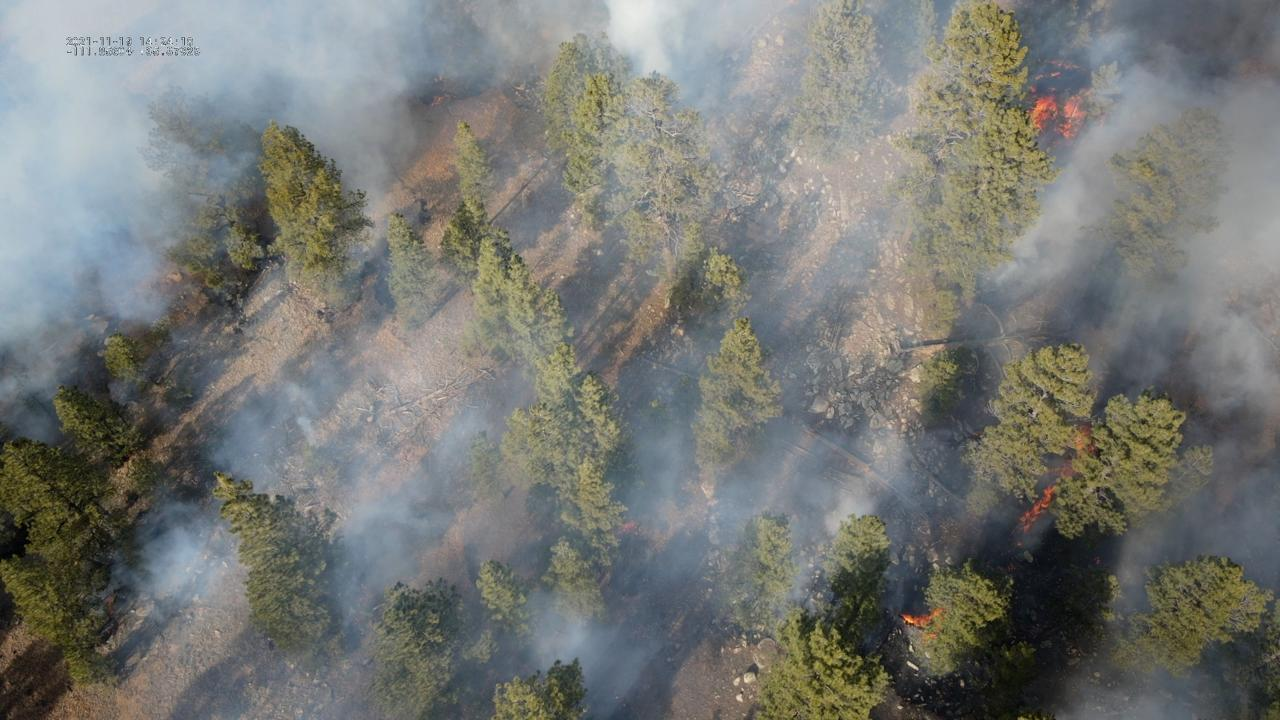fire: (1025, 85, 1089, 140), (1016, 481, 1058, 535), (1059, 421, 1095, 479), (897, 606, 946, 643), (1033, 72, 1061, 80), (428, 94, 446, 105), (1092, 553, 1103, 565), (1046, 60, 1063, 67)
smoke: (0, 0, 1280, 720)
